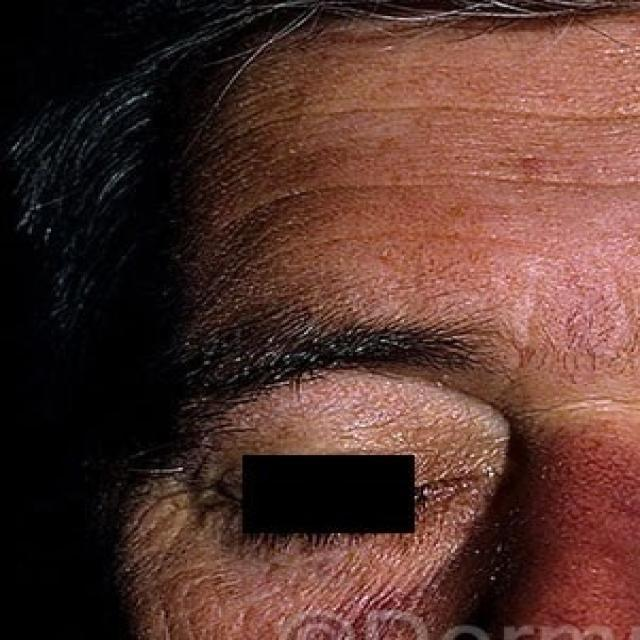Rosacea: (234, 120, 640, 345)
